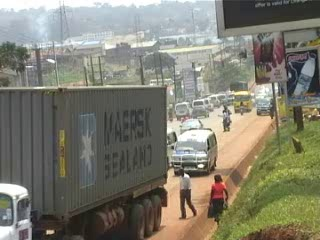Car: (177, 118, 206, 136), (190, 105, 215, 119)
Motorcycle: (239, 98, 246, 117)
